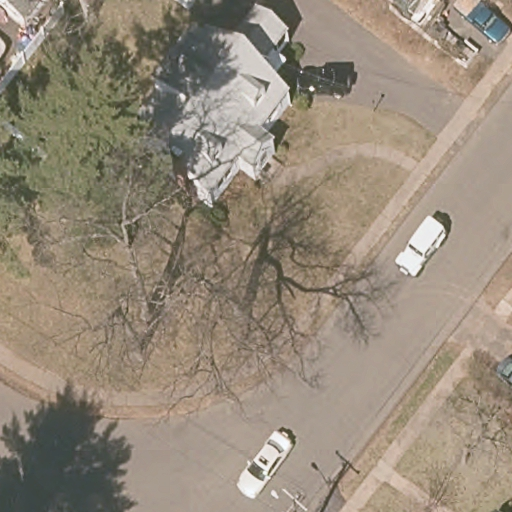DT: (269, 487, 307, 512)
